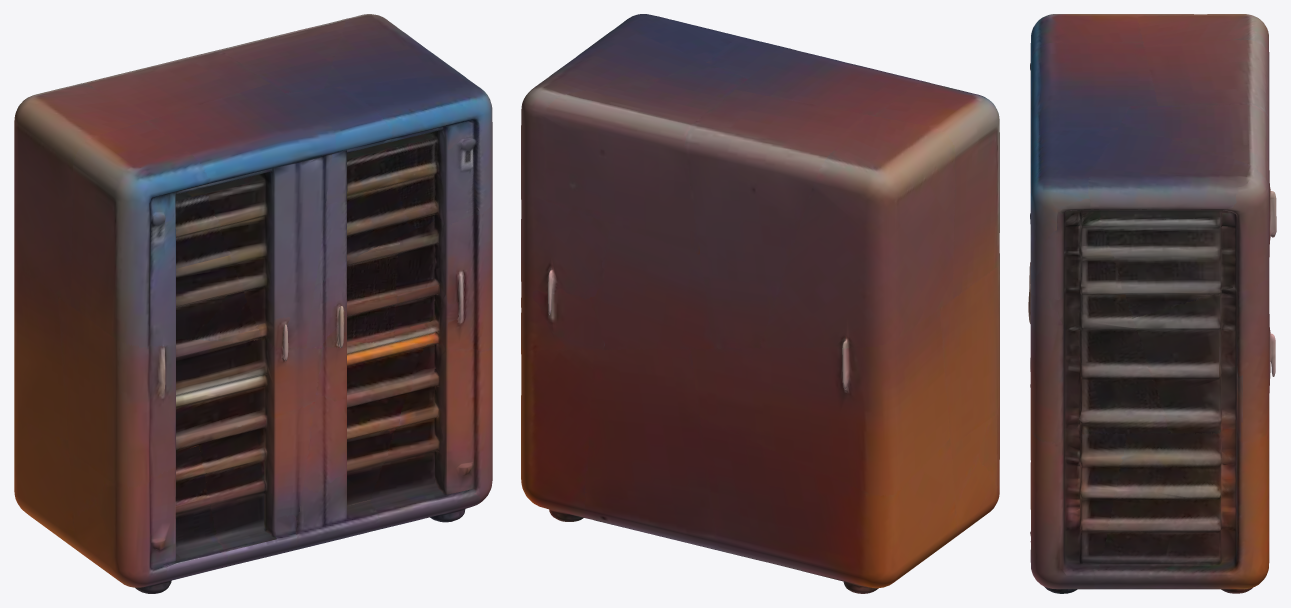
File: foundation_model_gpu_pod.glb
3 views of the same model, side by side, from view 1: azimuth 30°, elevation 25°; view 2: azimuth 150°, elevation 25°; view 3: azimuth 270°, elevation 25° (orthographic).
Parts seen in each view (by area): view 1: tripo_node_04c0b93e-9dd4-4676-8e2c-bdf715416471; view 2: tripo_node_04c0b93e-9dd4-4676-8e2c-bdf715416471; view 3: tripo_node_04c0b93e-9dd4-4676-8e2c-bdf715416471.
Part boxes in pixels (bbox=[...]): tripo_node_04c0b93e-9dd4-4676-8e2c-bdf715416471: bbox=[14, 14, 492, 593]; tripo_node_04c0b93e-9dd4-4676-8e2c-bdf715416471: bbox=[521, 14, 999, 593]; tripo_node_04c0b93e-9dd4-4676-8e2c-bdf715416471: bbox=[1028, 14, 1276, 593].
Size of the model in its own units: 0.8701 by 0.9497 by 0.5067.
Materials: 1 (1 with a texture image).
